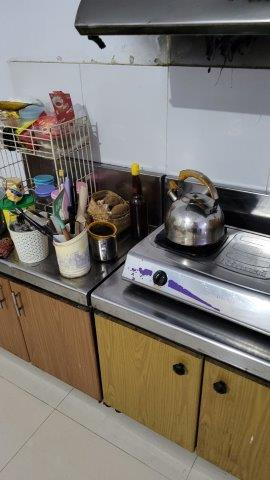botolkaca: (127, 159, 147, 242)
